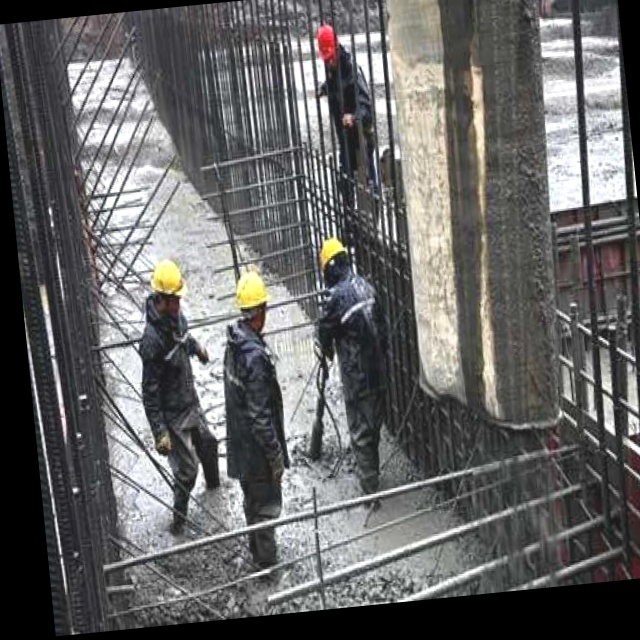Con_Casco: (148, 257, 190, 321), (234, 268, 270, 329), (316, 236, 352, 285)
